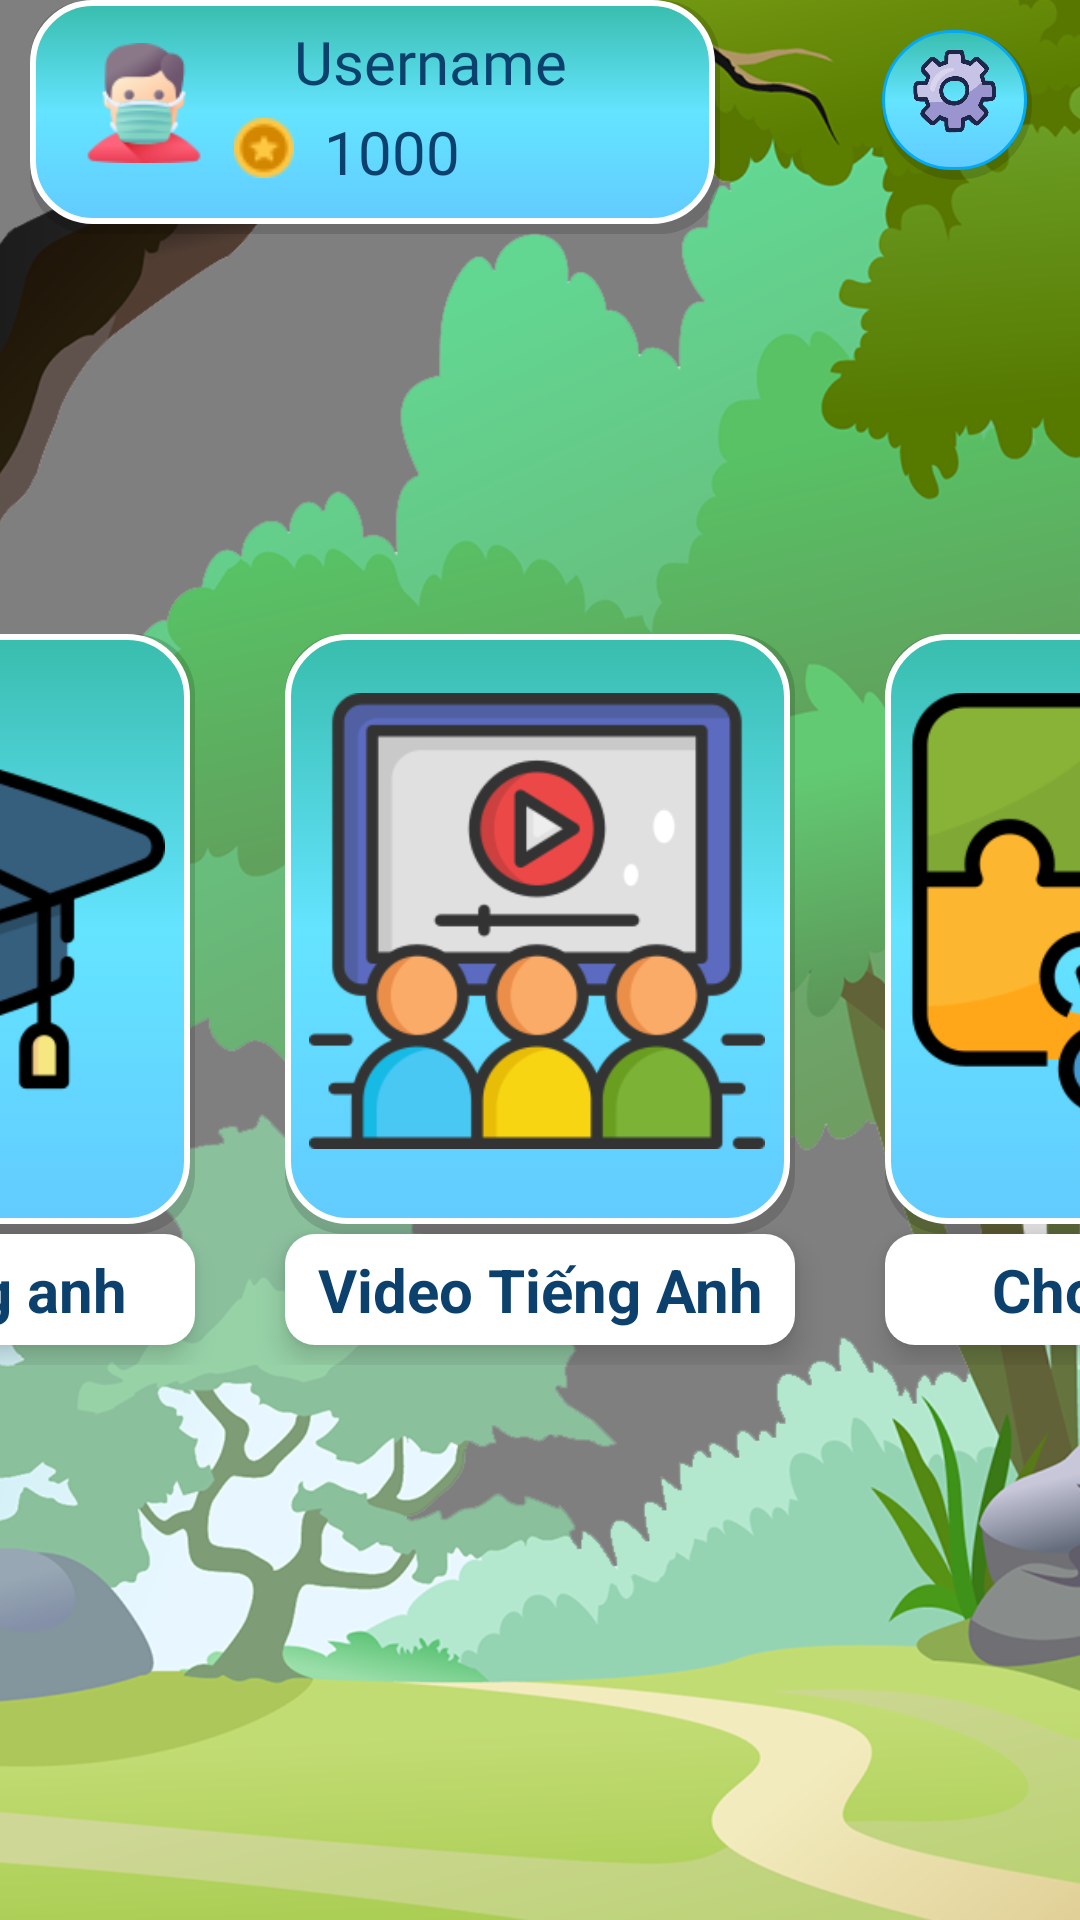

Where to tap for icons on this 1080×1920 app screen, as (x,y):
patient: (144,103)
setting: (957,105)
